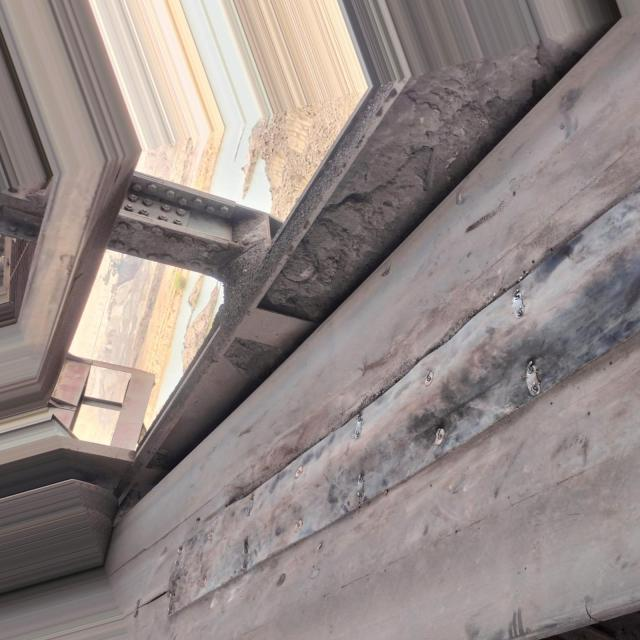patch work: (159, 169, 640, 638)
